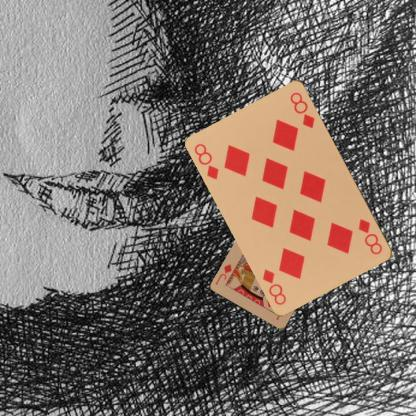8d: (192, 141, 221, 181), (356, 216, 384, 257)
